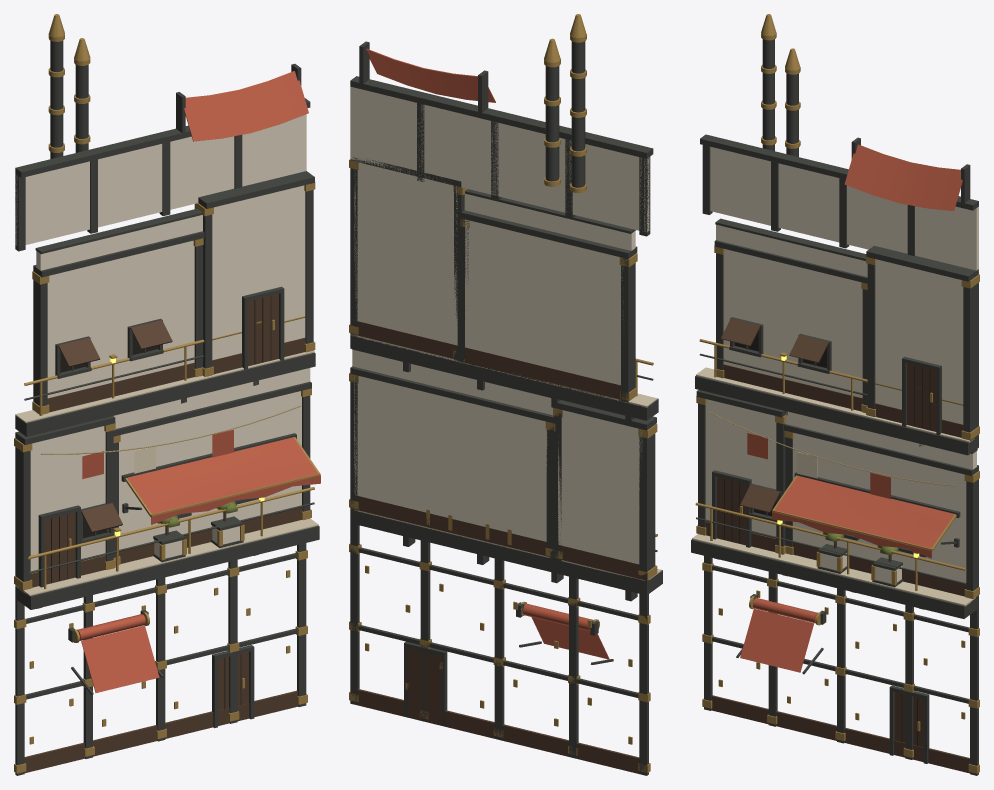
The model's file is terrace_c.glb.
3 renders of one model, left to right at view 1: azimuth 30°, elevation 25°; view 2: azimuth 150°, elevation 25°; view 3: azimuth 330°, elevation 25°, orthographic. The views are drawn at different scales.
Visible parts, largest first — view 1: terrace_c; view 2: terrace_c; view 3: terrace_c.
Part boxes in pixels (x1,y1,x2,y2): terrace_c: (14, 14, 320, 775); terrace_c: (349, 14, 662, 775); terrace_c: (691, 14, 979, 775).
Bounding box in the file's own units: 8.06 × 19.5 × 2.39.
